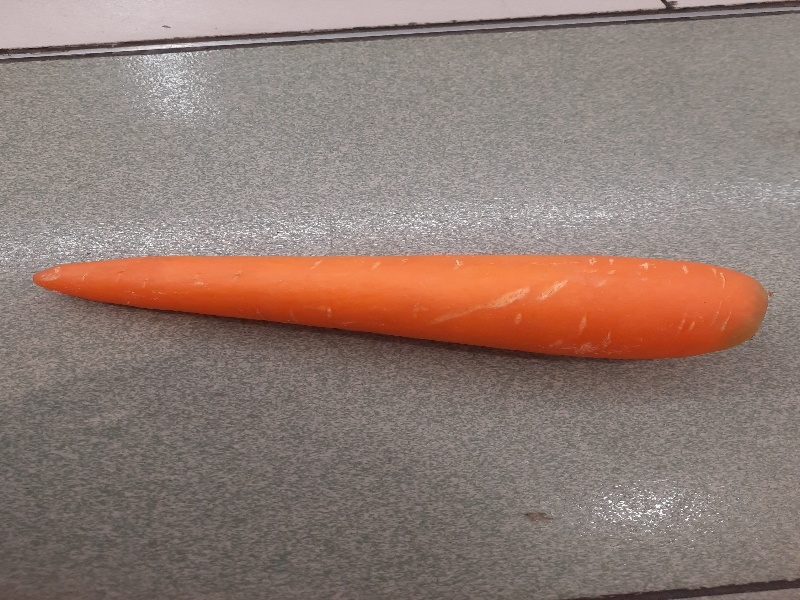vege: (28, 252, 771, 368)
